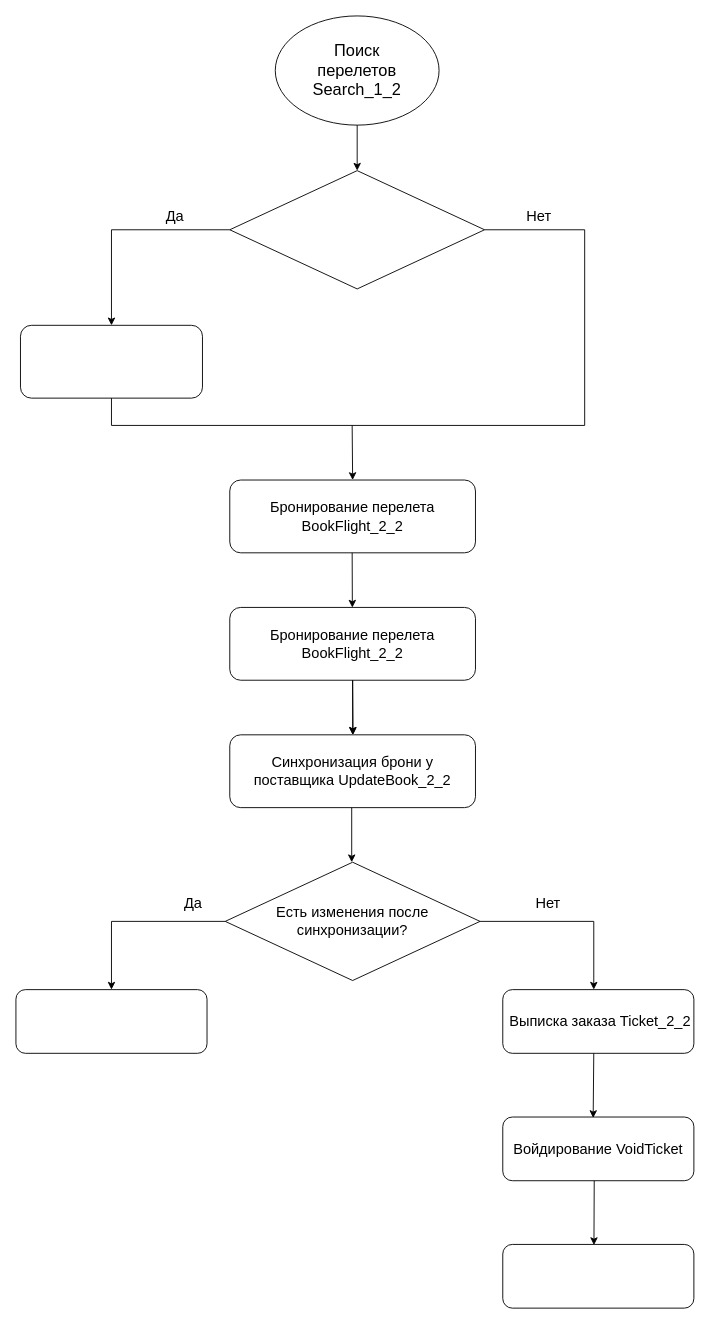
This 710x1324 diagram has some shape labels left out. Here are the shapes that lost their labels. From the top down, the centre of each, then its label:
At pixel 357 229: "Перелет содержит семейства тарифов?".
At pixel 111 361: "Получение семейств тарифов AdditionalOperations_1_2 (GetFareFamilies)".
At pixel 111 1021: "Показать изменения пользователю".
At pixel 598 1276: "Отмена брони CancelBook".
